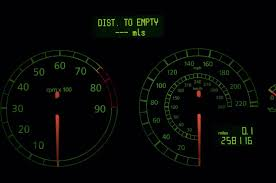Digital_Meter: (216, 126, 255, 147)
